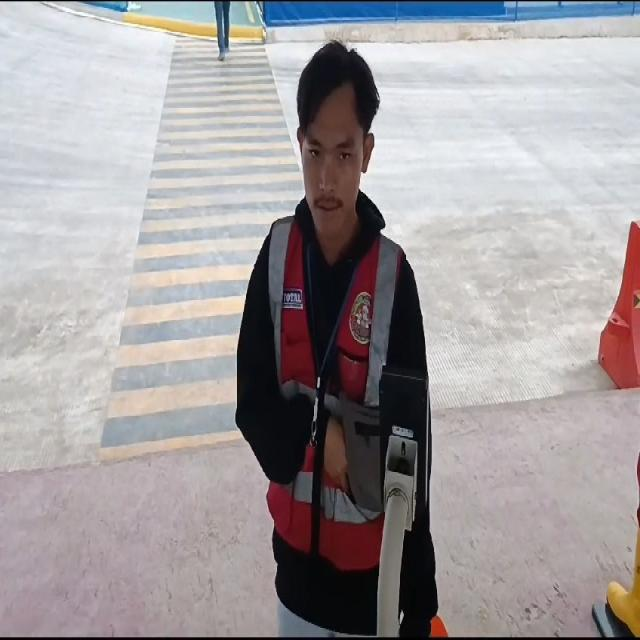safety_vest: (277, 218, 392, 555)
